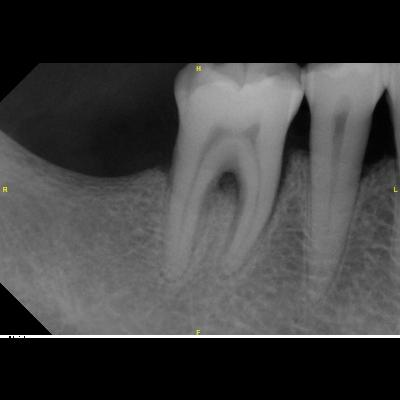tooth: (302, 62, 388, 308)
